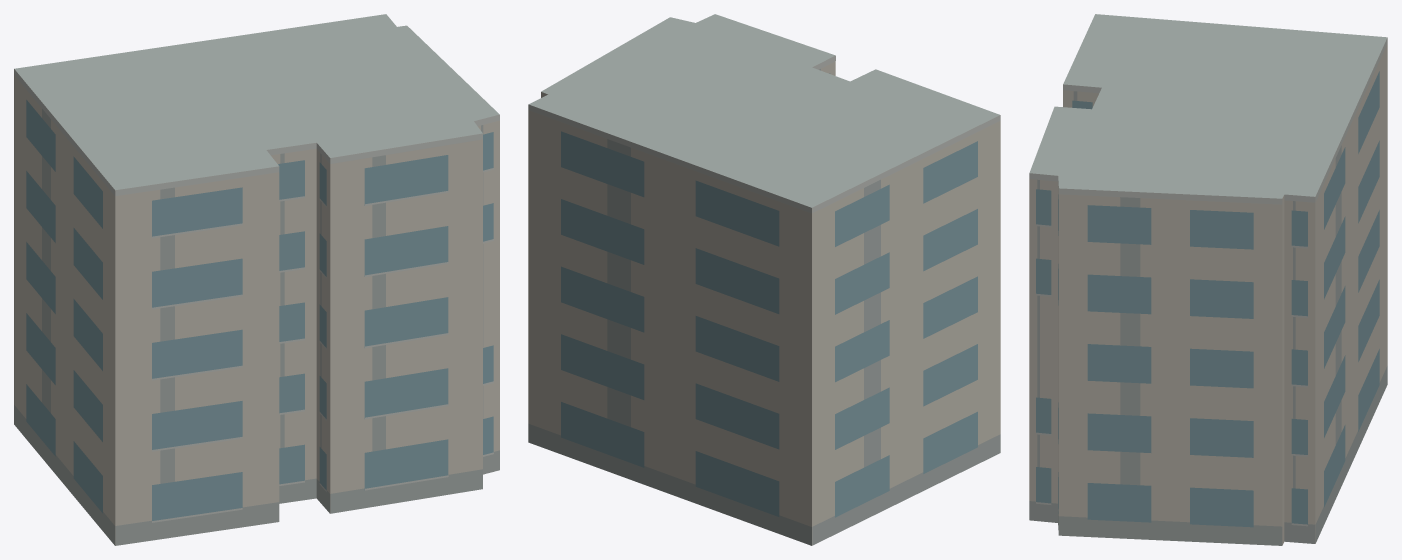
Rendered from survey-upis-32698533.glb.
3 views of the same model, side by side, from view 1: azimuth 30°, elevation 25°; view 2: azimuth 150°, elevation 25°; view 3: azimuth 270°, elevation 25° (orthographic). The views are drawn at different scales.
Parts seen in each view (by area): view 1: survey-upis-32698533.tmp; view 2: survey-upis-32698533.tmp; view 3: survey-upis-32698533.tmp.
Boxes of the visible parts, bbox=[...] form: survey-upis-32698533.tmp: bbox=[14, 14, 499, 545]; survey-upis-32698533.tmp: bbox=[528, 14, 1000, 545]; survey-upis-32698533.tmp: bbox=[1029, 14, 1387, 545].
Size of the model in its own units: 16.44 by 14.4 by 13.48.
